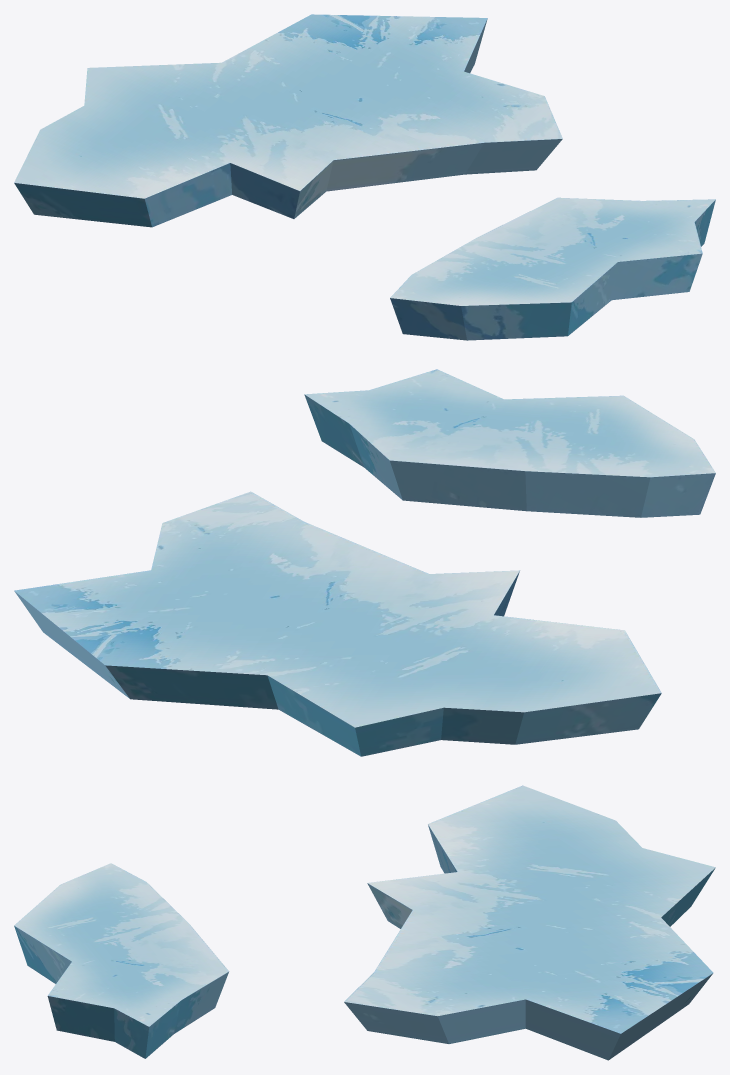
File: ice_floes_dadema.glb
3 renders of one model, top to bottom at view 1: azimuth 30°, elevation 25°; view 2: azimuth 150°, elevation 25°; view 3: azimuth 270°, elevation 25°, orthographic. The views are drawn at different scales.
Parts seen in each view (by area): view 1: Cube_Material.002_0, Cube.001_Material.001_0; view 2: Cube_Material.002_0, Cube.001_Material.001_0; view 3: Cube_Material.002_0, Cube.001_Material.001_0.
Part boxes in pixels (box(x1,y1,x2,y2)): Cube_Material.002_0: box(14, 14, 562, 227); Cube.001_Material.001_0: box(390, 197, 715, 340); Cube_Material.002_0: box(14, 491, 661, 756); Cube.001_Material.001_0: box(304, 369, 715, 517); Cube_Material.002_0: box(344, 785, 715, 1060); Cube.001_Material.001_0: box(14, 863, 229, 1058).
Bounding box in the file's own units: 6.42 × 0.4649 × 7.66.
2 materials, 2 textured.
